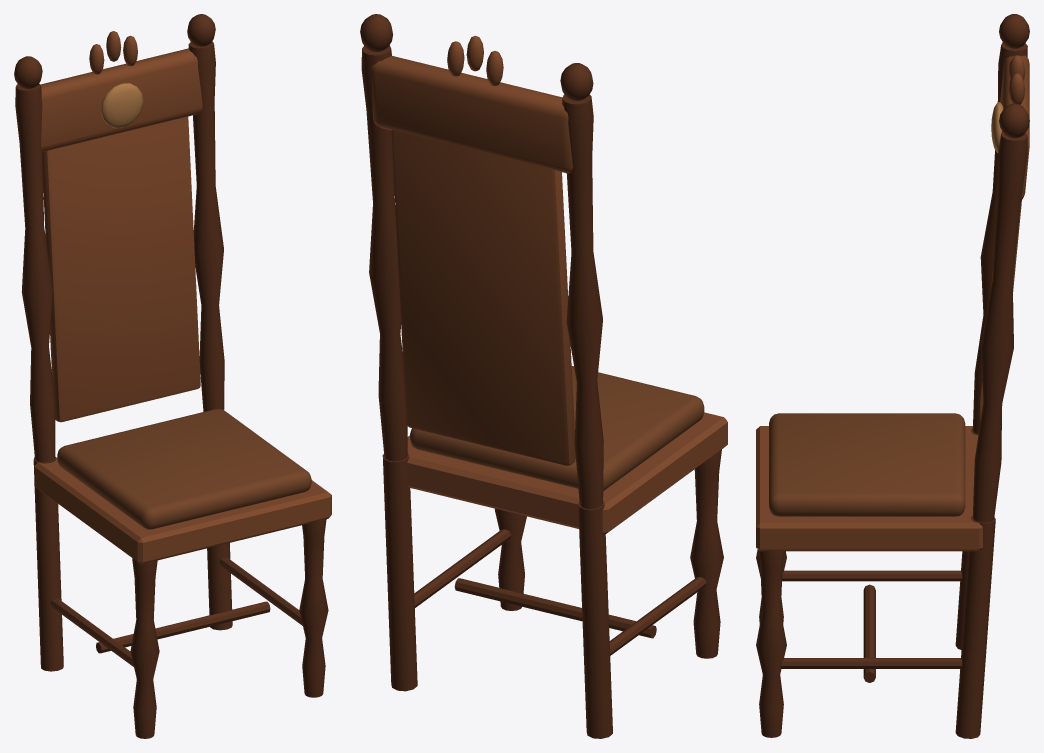
File: PR_HighChair.fbx
3 views of the same model, side by side, from view 1: azimuth 30°, elevation 25°; view 2: azimuth 150°, elevation 25°; view 3: azimuth 270°, elevation 25° (orthographic). The views are drawn at different scales.
Visible parts, largest first — view 1: PR_HighChair_Wood, PR_HighChair_WoodDark, PR_HighChair_TrunkBrown, PR_HighChair_WoodLight; view 2: PR_HighChair_Wood, PR_HighChair_WoodDark, PR_HighChair_TrunkBrown; view 3: PR_HighChair_WoodDark, PR_HighChair_TrunkBrown, PR_HighChair_Wood.
Part boxes in pixels (bbox=[...]): PR_HighChair_Wood: bbox=[34, 31, 331, 564]; PR_HighChair_WoodDark: bbox=[14, 14, 328, 738]; PR_HighChair_TrunkBrown: bbox=[57, 409, 311, 529]; PR_HighChair_WoodLight: bbox=[101, 83, 143, 128]; PR_HighChair_Wood: bbox=[371, 35, 727, 534]; PR_HighChair_WoodDark: bbox=[360, 14, 723, 738]; PR_HighChair_TrunkBrown: bbox=[410, 366, 704, 490]; PR_HighChair_WoodDark: bbox=[756, 14, 1029, 738]; PR_HighChair_TrunkBrown: bbox=[769, 413, 965, 516]; PR_HighChair_Wood: bbox=[756, 55, 1029, 551].
Bounding box in the file's own units: 0.4693 × 1.36 × 0.53.
